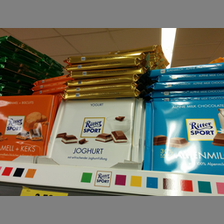chocolate: (49, 100, 143, 168), (145, 99, 224, 176), (1, 95, 58, 163)
